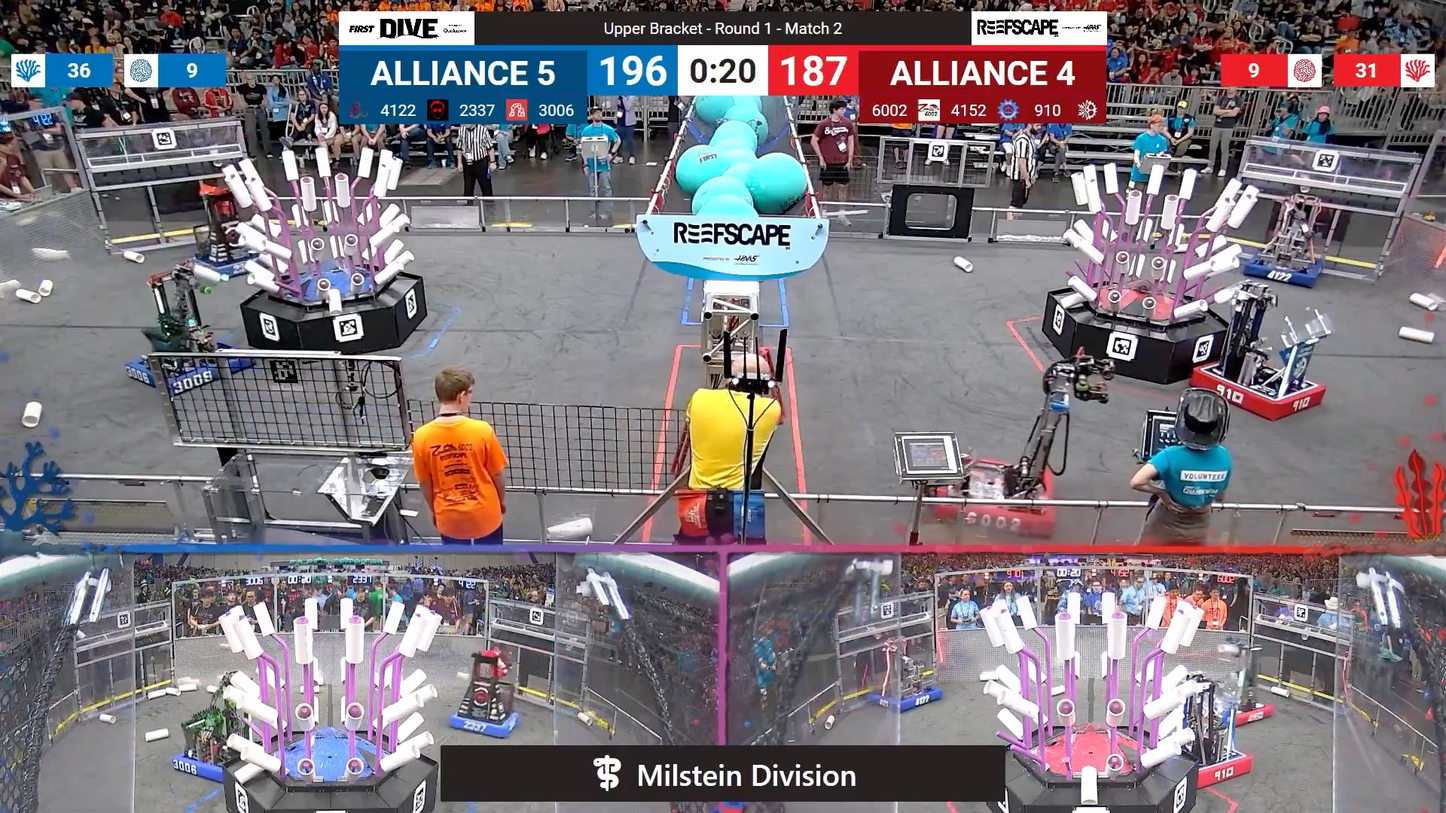bumpers: (916, 457, 1060, 533), (1188, 363, 1332, 424), (121, 343, 253, 393), (166, 738, 264, 784), (1169, 743, 1258, 791), (1231, 251, 1332, 289), (441, 703, 527, 741), (183, 246, 267, 282), (1201, 693, 1280, 729), (865, 683, 948, 717)
